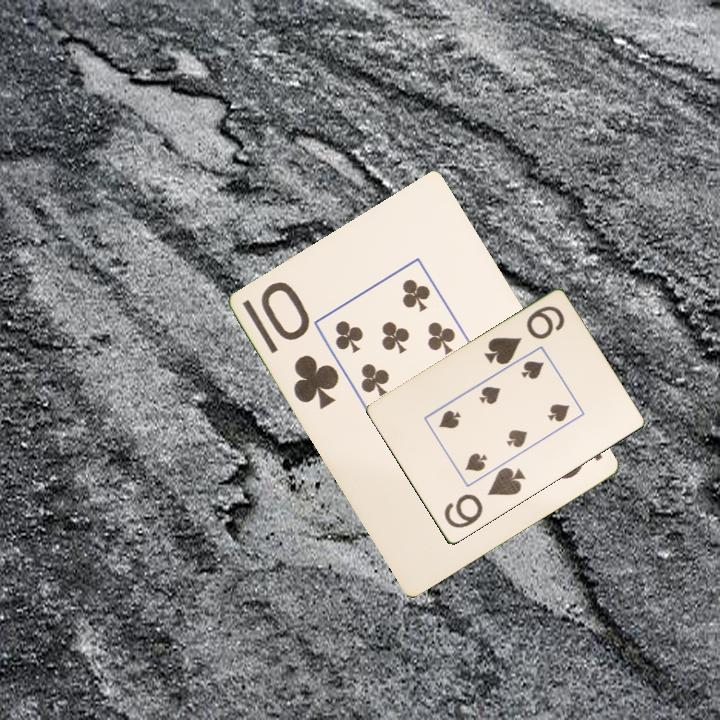10c: (257, 278, 343, 413)
6s: (440, 464, 528, 532), (480, 302, 568, 368)
